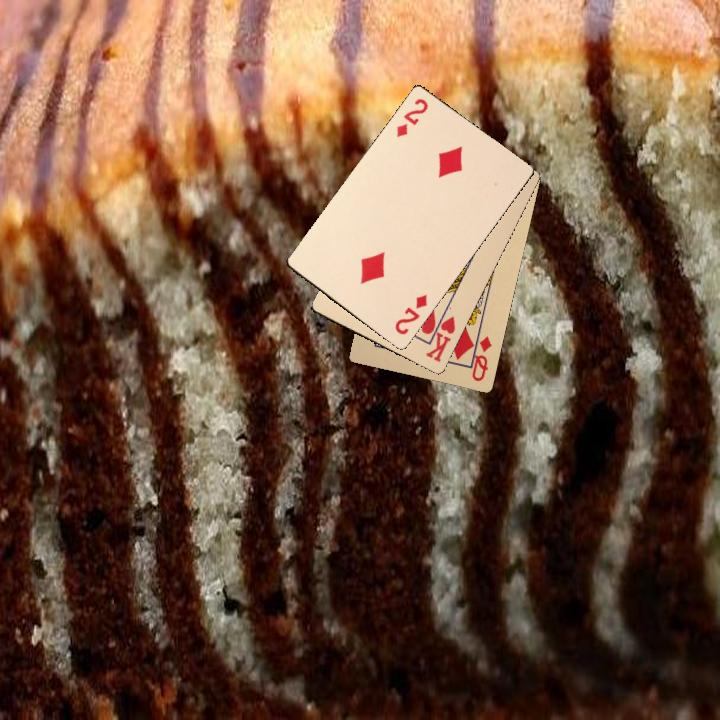2d: (390, 291, 430, 337), (392, 94, 431, 140)
Kh: (422, 308, 458, 365)
Qd: (466, 327, 495, 384)
